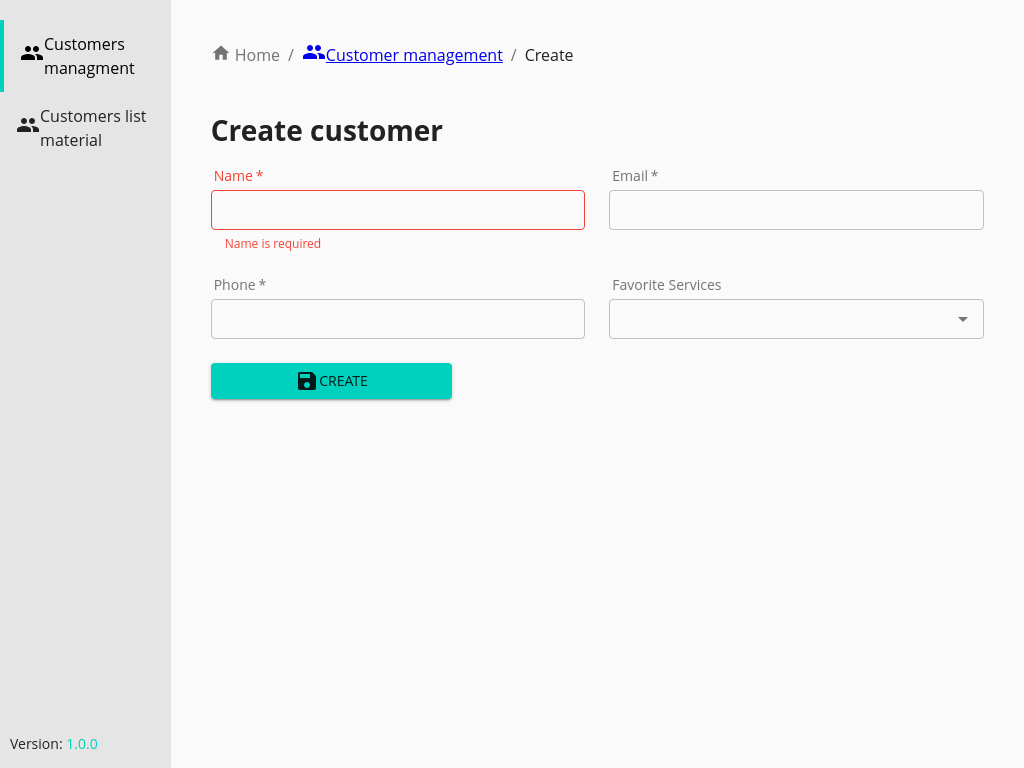
Test: Customers: Create Customer › Customer Form component › Test email input as Controlled component
The width and height of the screenshot is (1024, 768).
Type "test@gmail.com" into the field named "email" at (797, 210), box [609,190,984,230]
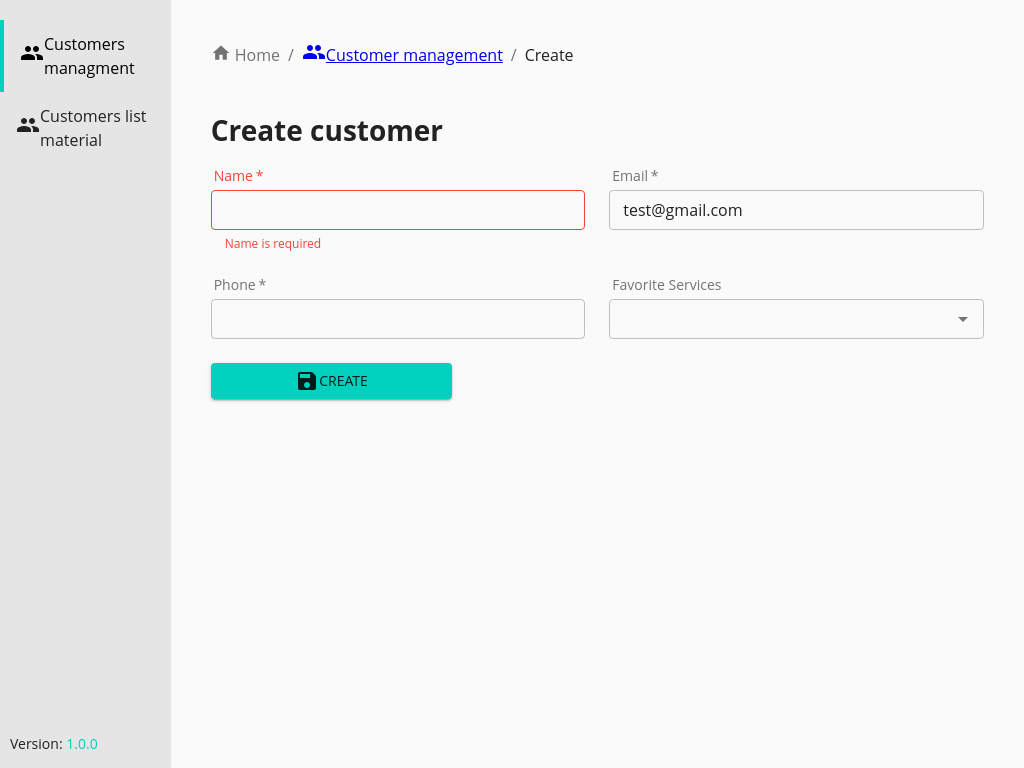
Clear the field named "email" at (797, 210), box [609,190,984,230]
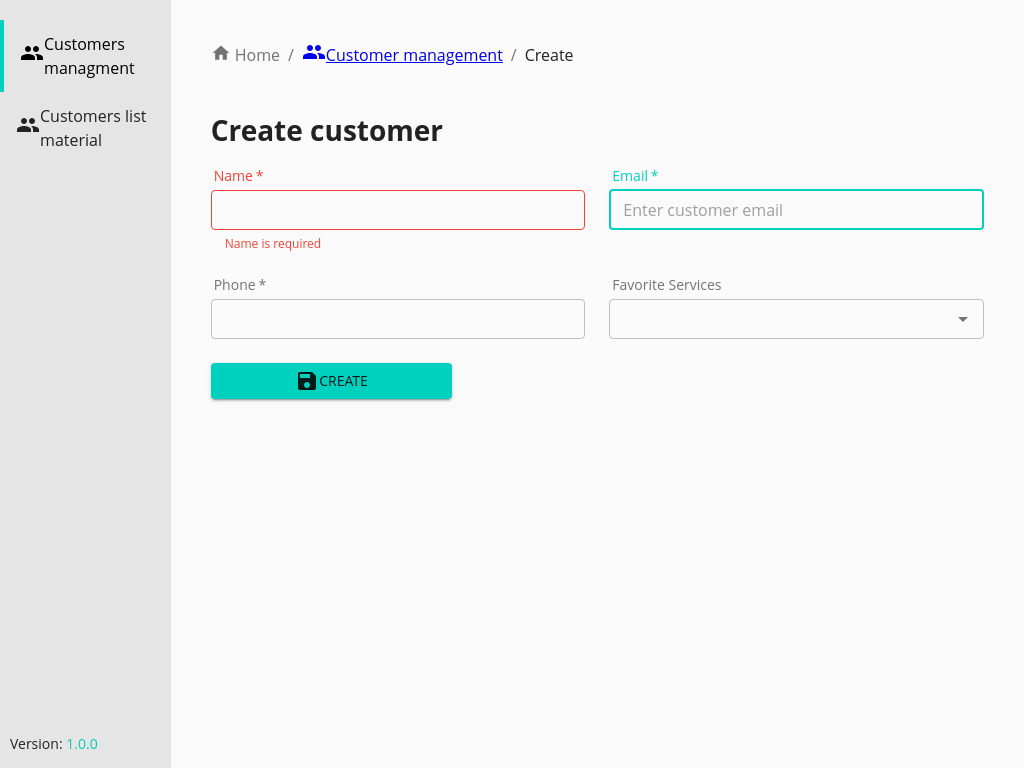
Leave the field named "email", box [609,190,984,230]
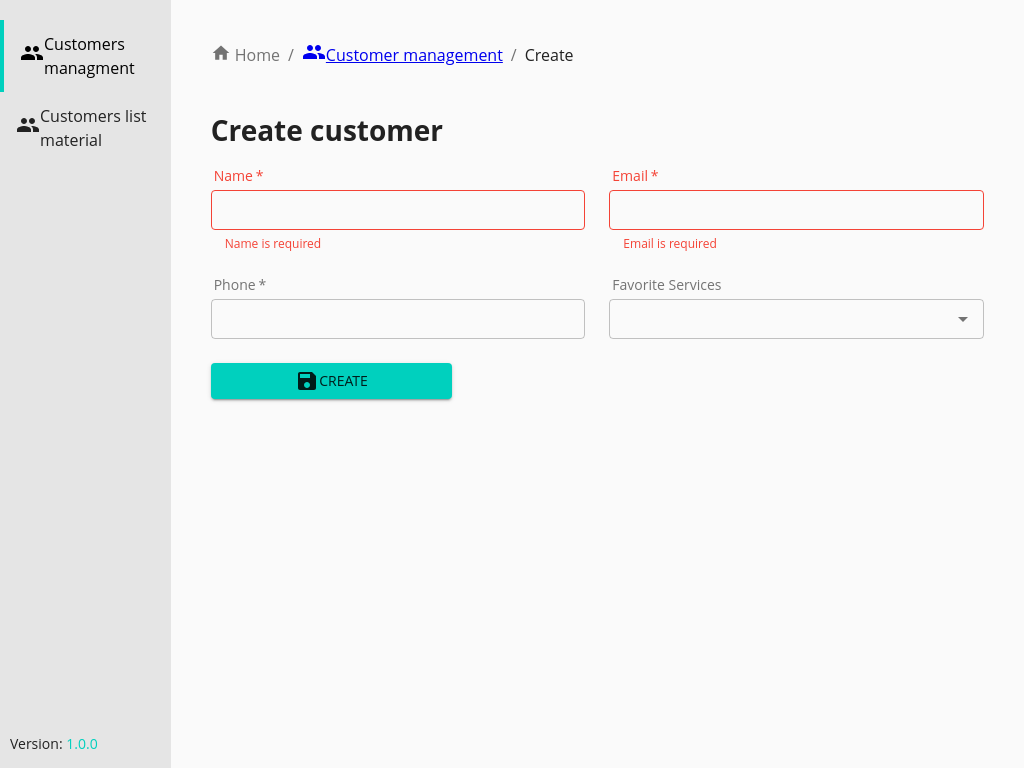
Check: the text with id "input-email-email-Email-helper-text" reads "Email is required", box [623,235,717,252]
Type "invalid email @" into the field named "email" at (797, 210), box [609,190,984,230]
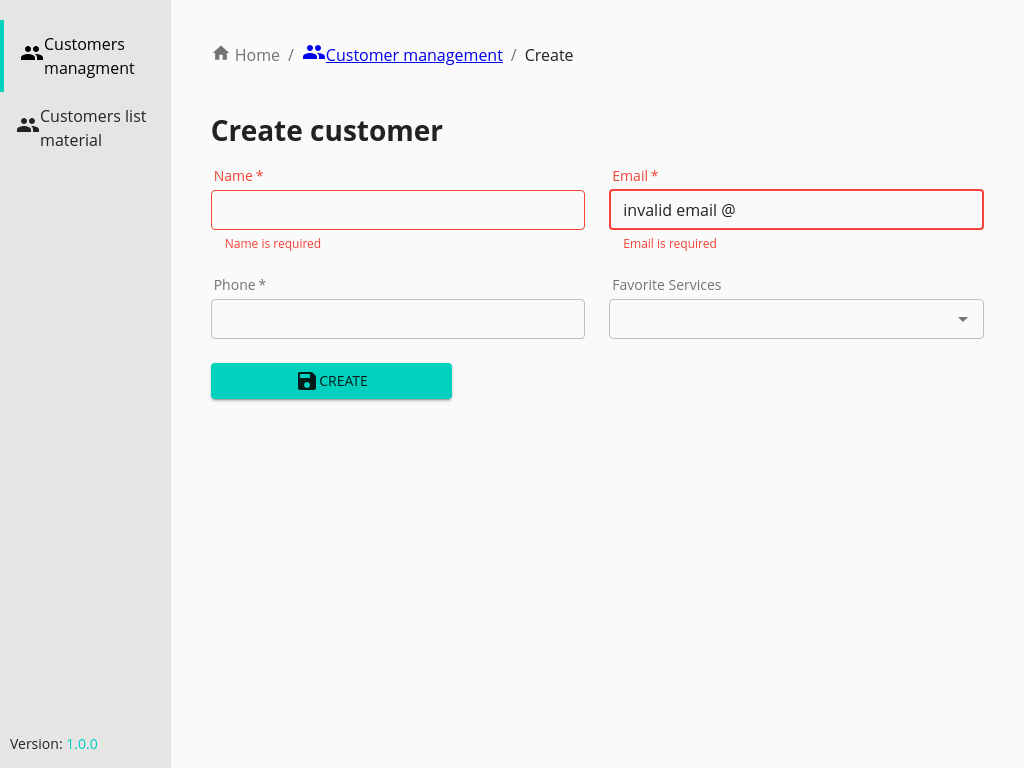
Leave the field named "email", box [609,190,984,230]
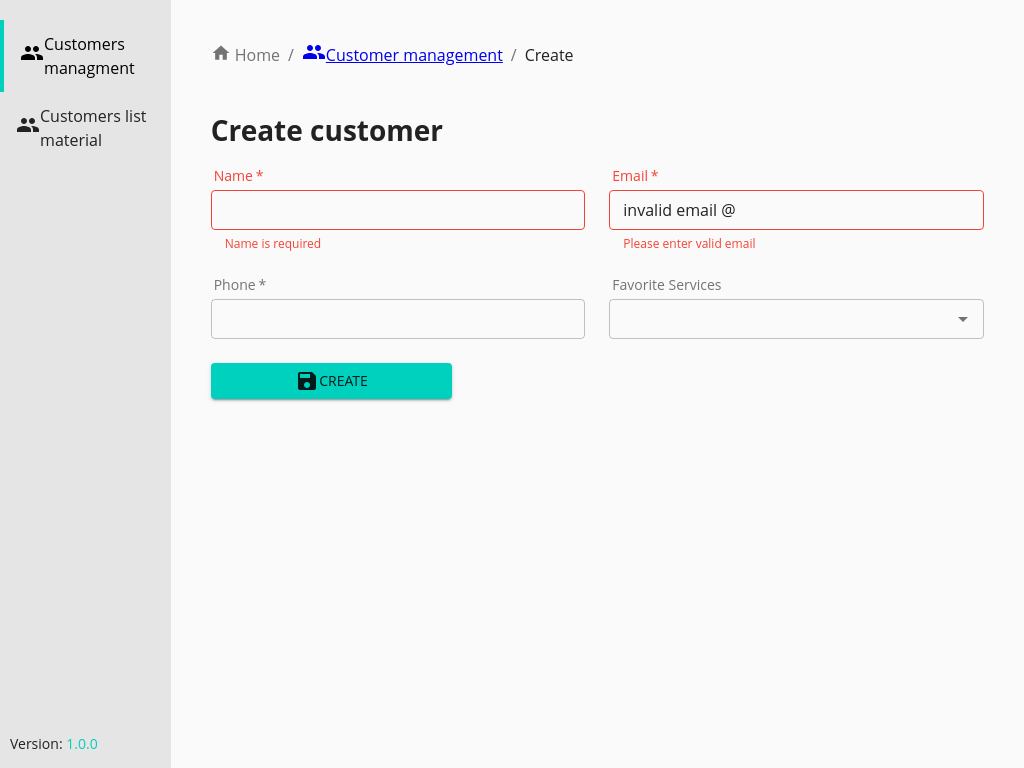
Check: the text "Please enter valid email" is shown, box [623,235,756,252]
Check: the text with id "input-email-email-Email-helper-text" reads "Please enter valid email", box [623,235,755,252]
